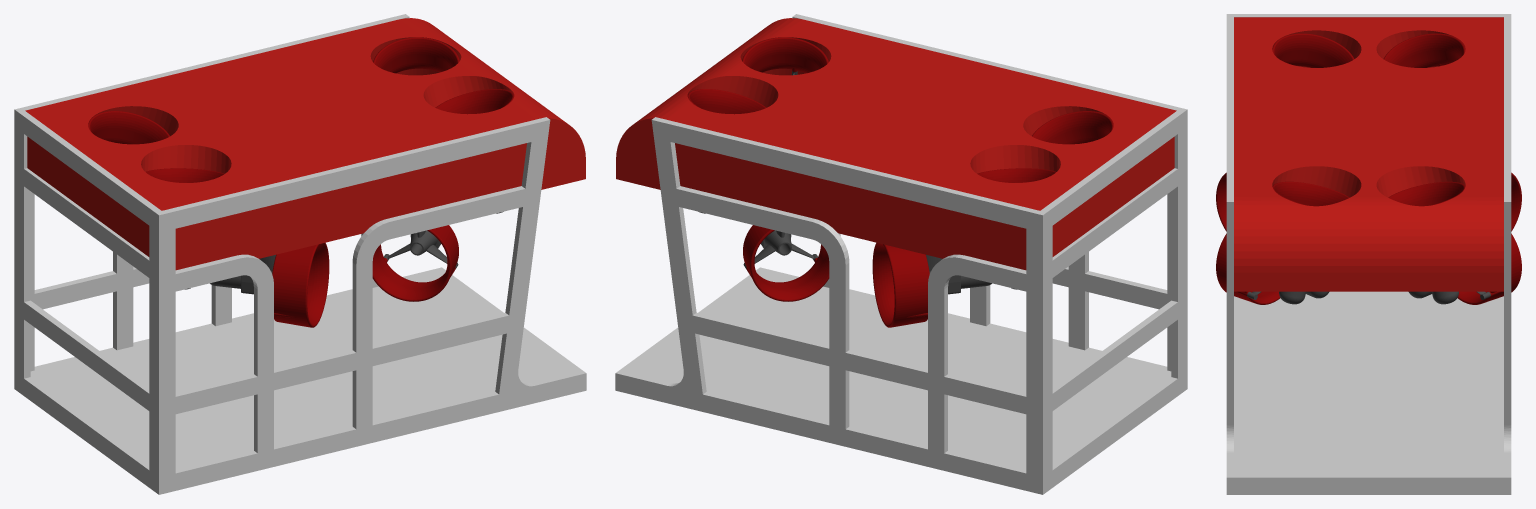
File: RexROV_no_props.dae
3 renders of one model, left to right at view 1: azimuth 30°, elevation 25°; view 2: azimuth 150°, elevation 25°; view 3: azimuth 270°, elevation 25°, orthographic.
Visible parts, largest first — view 1: ShapeIndexedFaceSet_024, ShapeIndexedFaceSet_025, ShapeIndexedFaceSet_007, ShapeIndexedFaceSet_001, ShapeIndexedFaceSet_016, ShapeIndexedFaceSet_022, ShapeIndexedFaceSet_013, ShapeIndexedFaceSet_019, ShapeIndexedFaceSet; view 2: ShapeIndexedFaceSet_024, ShapeIndexedFaceSet_025, ShapeIndexedFaceSet_010, ShapeIndexedFaceSet_004, ShapeIndexedFaceSet_013, ShapeIndexedFaceSet_019, ShapeIndexedFaceSet_016, ShapeIndexedFaceSet_022, ShapeIndexedFaceSet_003; view 3: ShapeIndexedFaceSet_025, ShapeIndexedFaceSet_024, ShapeIndexedFaceSet_022, ShapeIndexedFaceSet_019, ShapeIndexedFaceSet_016, ShapeIndexedFaceSet_013, ShapeIndexedFaceSet_004, ShapeIndexedFaceSet_001, ShapeIndexedFaceSet_010, ShapeIndexedFaceSet_007.
Part boxes in pixels (x1=…): ShapeIndexedFaceSet_024: x1=14, y1=14, x2=586, y2=494; ShapeIndexedFaceSet_025: x1=25, y1=18, x2=585, y2=270; ShapeIndexedFaceSet_007: x1=272, y1=242, x2=329, y2=327; ShapeIndexedFaceSet_001: x1=372, y1=225, x2=458, y2=301; ShapeIndexedFaceSet_016: x1=373, y1=37, x2=459, y2=73; ShapeIndexedFaceSet_022: x1=88, y1=111, x2=169, y2=144; ShapeIndexedFaceSet_013: x1=435, y1=89, x2=514, y2=114; ShapeIndexedFaceSet_019: x1=146, y1=168, x2=224, y2=182; ShapeIndexedFaceSet: x1=384, y1=230, x2=458, y2=268; ShapeIndexedFaceSet_024: x1=615, y1=14, x2=1187, y2=494; ShapeIndexedFaceSet_025: x1=616, y1=18, x2=1176, y2=270; ShapeIndexedFaceSet_010: x1=872, y1=242, x2=929, y2=327; ShapeIndexedFaceSet_004: x1=743, y1=225, x2=829, y2=301; ShapeIndexedFaceSet_013: x1=742, y1=37, x2=828, y2=73; ShapeIndexedFaceSet_019: x1=1032, y1=111, x2=1113, y2=144; ShapeIndexedFaceSet_016: x1=687, y1=89, x2=766, y2=114; ShapeIndexedFaceSet_022: x1=977, y1=168, x2=1055, y2=182; ShapeIndexedFaceSet_003: x1=743, y1=230, x2=817, y2=268; ShapeIndexedFaceSet_025: x1=1234, y1=17, x2=1503, y2=291; ShapeIndexedFaceSet_024: x1=1226, y1=14, x2=1511, y2=494; ShapeIndexedFaceSet_022: x1=1383, y1=33, x2=1465, y2=67; ShapeIndexedFaceSet_019: x1=1272, y1=33, x2=1354, y2=67; ShapeIndexedFaceSet_016: x1=1388, y1=181, x2=1465, y2=206; ShapeIndexedFaceSet_013: x1=1272, y1=181, x2=1349, y2=206; ShapeIndexedFaceSet_004: x1=1457, y1=233, x2=1521, y2=304; ShapeIndexedFaceSet_001: x1=1216, y1=233, x2=1280, y2=304; ShapeIndexedFaceSet_010: x1=1511, y1=172, x2=1521, y2=231; ShapeIndexedFaceSet_007: x1=1216, y1=172, x2=1226, y2=231.
Bounding box in the file's own units: 2.58 × 1.61 × 1.6.
